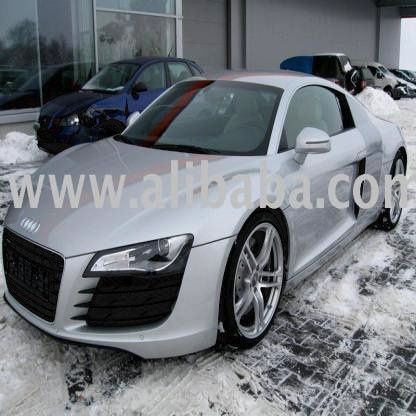Vehicle: (4, 70, 407, 361)
